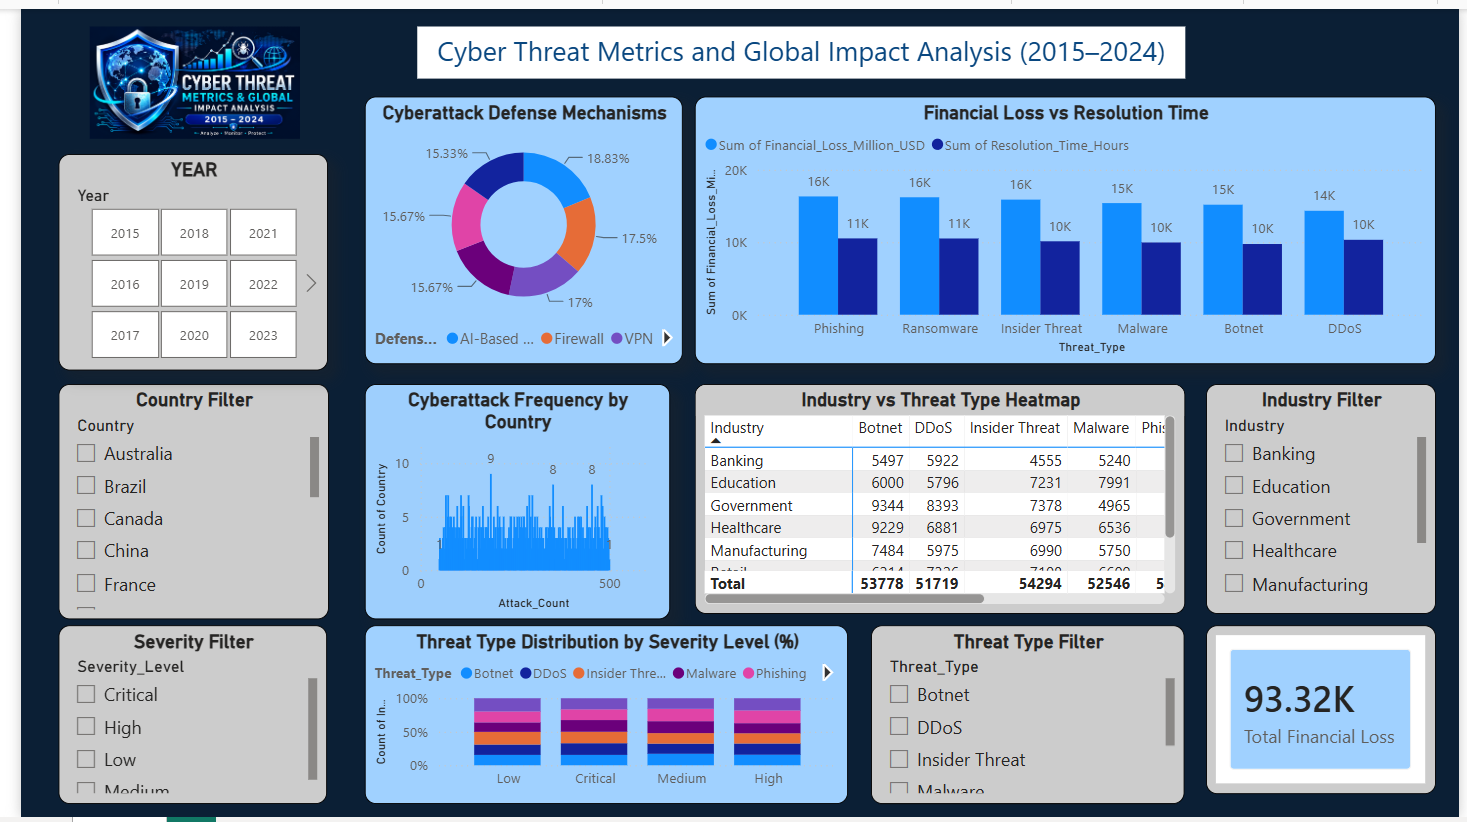

This screenshot's page, from the dashboard's own definition file:
{"tool":"powerbi","page":{"name":"Page 1","canvas":[1280,720],"ordinal":0},"visuals":[{"type":"cardVisual","fields":{"Data":["Cyber_Threat_Data.Total Financial Loss"]},"box":[1055.1,548.6,204.8,150.2],"z":0},{"type":"donutChart","title":"Cyberattack Defense Mechanisms","fields":{"Category":["Cyber_Threat_Data.Defense_Mechanism"],"Y":["CountNonNull(Cyber_Threat_Data.Incident_ID)"]},"box":[306.6,78.1,283.4,238.6],"z":1000},{"type":"clusteredColumnChart","title":"Financial Loss vs Resolution Time","fields":{"Category":["Cyber_Threat_Data.Threat_Type"],"Y":["Sum(Cyber_Threat_Data.Financial_Loss_Million_USD)","Sum(Cyber_Threat_Data.Resolution_Time_Hours)"]},"box":[599.5,78.2,660.4,238.3],"z":2000},{"type":"clusteredColumnChart","title":"Cyberattack Frequency by Country","fields":{"Y":["CountNonNull(Cyber_Threat_Data.Country)"],"Category":["Cyber_Threat_Data.Attack_Count"]},"box":[306.6,333.9,271.8,209.8],"z":3000},{"type":"pivotTable","title":"Industry vs Threat Type Heatmap","fields":{"Rows":["Cyber_Threat_Data.Industry"],"Columns":["Cyber_Threat_Data.Threat_Type"],"Values":["Sum(Cyber_Threat_Data.Attack_Count)"]},"box":[599.5,333.9,436.9,204.8],"z":4000},{"type":"hundredPercentStackedColumnChart","title":"Threat Type Distribution by Severity Level (%)","fields":{"Category":["Cyber_Threat_Data.Severity_Level"],"Y":["CountNonNull(Cyber_Threat_Data.Incident_ID)"],"Series":["Cyber_Threat_Data.Threat_Type"]},"box":[306.6,548.6,430.7,158.9],"z":5000},{"type":"slicer","title":"Country Filter","fields":{"Values":["Cyber_Threat_Data.Country"]},"box":[33.5,333.9,240.8,209.8],"z":6000},{"type":"slicer","title":"Industry Filter","fields":{"Values":["Cyber_Threat_Data.Industry"]},"box":[1055.1,333.9,204.8,204.8],"z":7000},{"type":"slicer","title":"Threat Type Filter","fields":{"Values":["Cyber_Threat_Data.Threat_Type"]},"box":[757.2,548.6,279.3,158.9],"z":8000},{"type":"slicer","title":"Severity Filter","fields":{"Values":["Cyber_Threat_Data.Severity_Level"]},"box":[33.5,548.6,239.6,158.9],"z":9000},{"type":"textbox","box":[352.8,15.9,684,46.3],"z":10000},{"type":"slicer","title":"YEAR","fields":{"Values":["Cyber_Threat_Data.Year"]},"box":[33.8,129.1,240.1,193],"z":11000},{"type":"image","box":[61.5,15.7,187,100.1],"z":12000}]}

Visuals, with their boxes in screenshot pixels (x1, y1, x2, y2), scaled from the page's 1280x720 canvas onto the 1467x822 screenshot:
cardVisual - Cyber_Threat_Data.Total Financial Loss: bbox=[1209, 626, 1444, 798]
"Cyberattack Defense Mechanisms" donutChart: bbox=[351, 89, 676, 362]
"Financial Loss vs Resolution Time" clusteredColumnChart: bbox=[687, 89, 1444, 361]
"Cyberattack Frequency by Country" clusteredColumnChart: bbox=[351, 381, 663, 621]
"Industry vs Threat Type Heatmap" pivotTable: bbox=[687, 381, 1188, 615]
"Threat Type Distribution by Severity Level (%)" hundredPercentStackedColumnChart: bbox=[351, 626, 845, 808]
"Country Filter" slicer: bbox=[38, 381, 314, 621]
"Industry Filter" slicer: bbox=[1209, 381, 1444, 615]
"Threat Type Filter" slicer: bbox=[868, 626, 1188, 808]
"Severity Filter" slicer: bbox=[38, 626, 313, 808]
textbox: bbox=[404, 18, 1188, 71]
"YEAR" slicer: bbox=[39, 147, 314, 368]
image: bbox=[70, 18, 285, 132]
